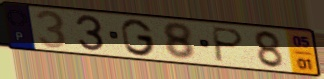3: (35, 10, 71, 50), (73, 14, 106, 53)
8: (161, 21, 199, 62), (253, 30, 285, 70)
G: (119, 18, 158, 58)
P: (211, 25, 247, 64)
